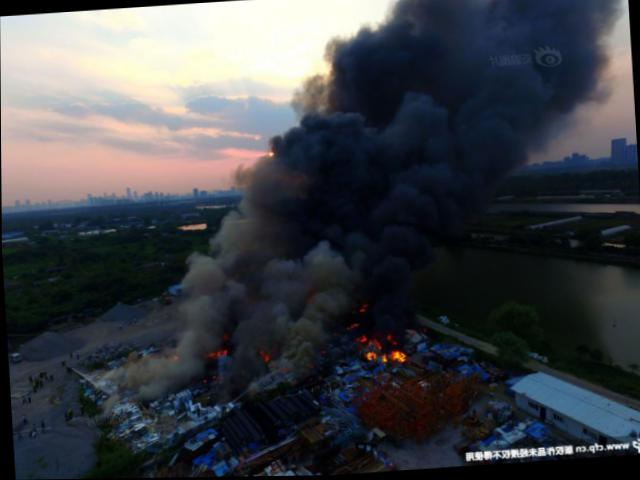fire: (392, 350, 407, 363), (367, 348, 379, 362), (382, 355, 388, 362)
